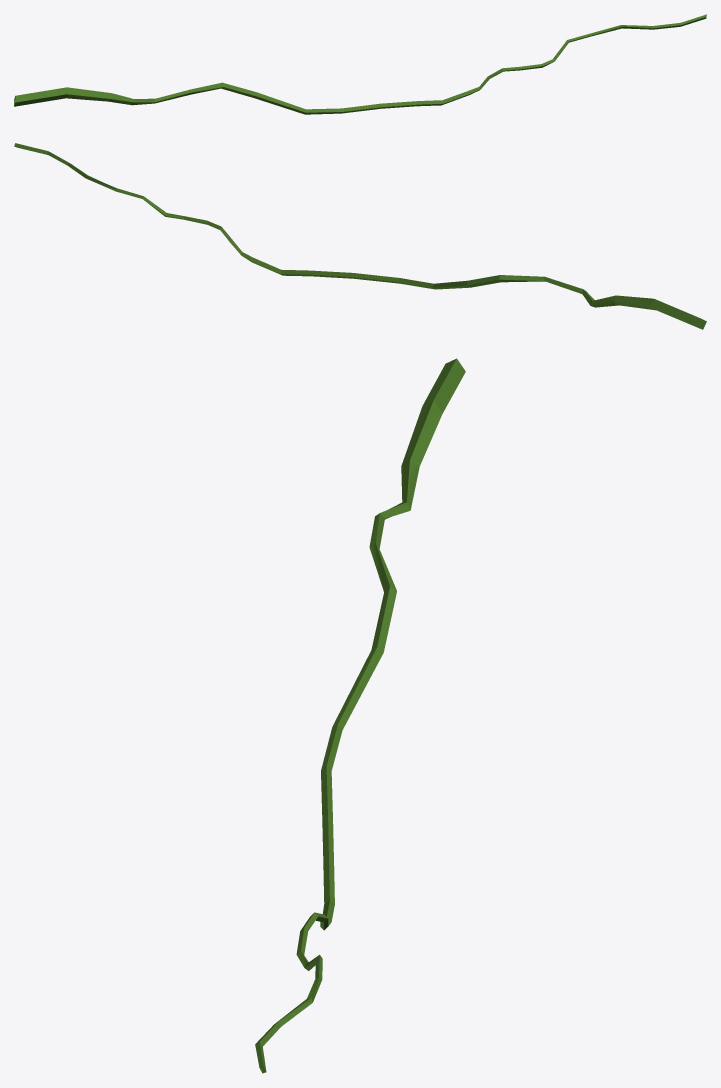
Rendered from ZLPC_Plant_Vine_B_4.FBX.
3 renders of one model, top to bottom at view 1: azimuth 30°, elevation 25°; view 2: azimuth 150°, elevation 25°; view 3: azimuth 270°, elevation 25°, orthographic. The views are drawn at different scales.
Parts seen in each view (by area): view 1: ZLPC_Plant_Vine_B_4; view 2: ZLPC_Plant_Vine_B_4; view 3: ZLPC_Plant_Vine_B_4.
Part boxes in pixels (x1,y1,x2,y2): ZLPC_Plant_Vine_B_4: (14,14,706,114); ZLPC_Plant_Vine_B_4: (14,143,706,329); ZLPC_Plant_Vine_B_4: (255,358,465,1073).
Bounding box in the file's own units: 1137 × 141 × 160.
